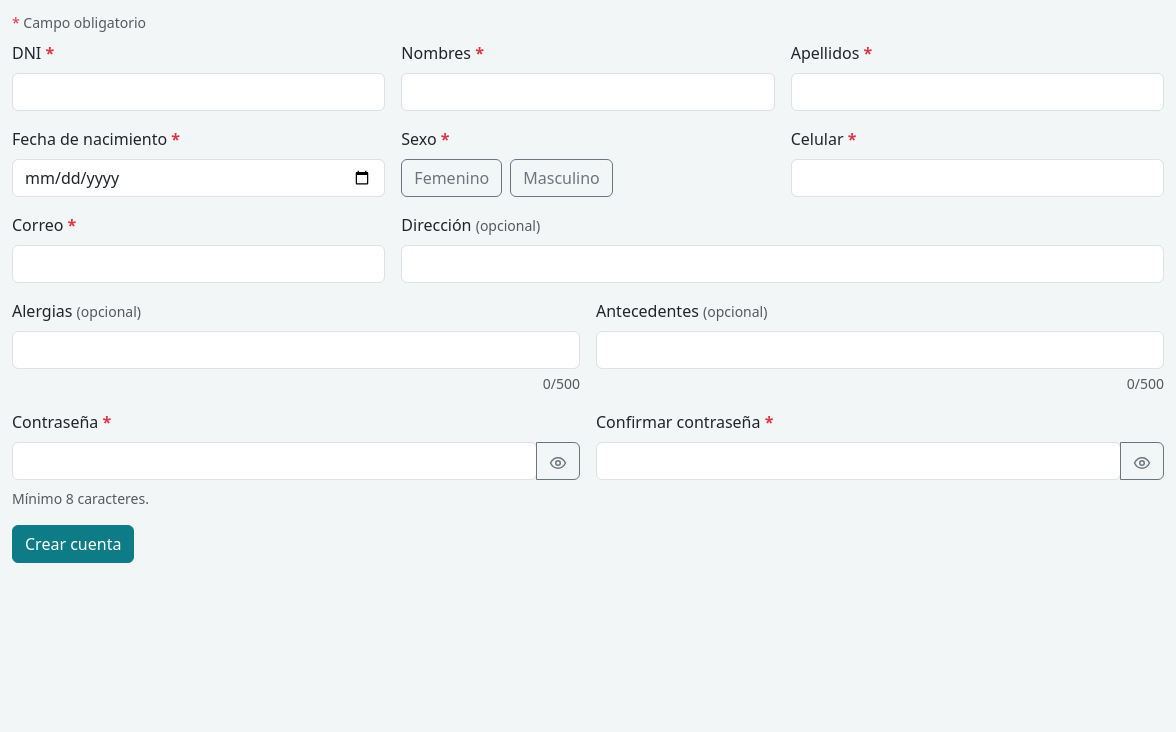
Scenario: Formulario de registro del paciente › web: marca obligatorios y opcionales; nombres sin números ni símbolos; la ayuda de la contraseña dice solo el mínimo
Check: the text "Dirección (opcional)" is shown, box [401, 213, 540, 237]
Type "Ana2 María#" into the field labelled "Nombres" at (588, 92), box [401, 73, 775, 111]
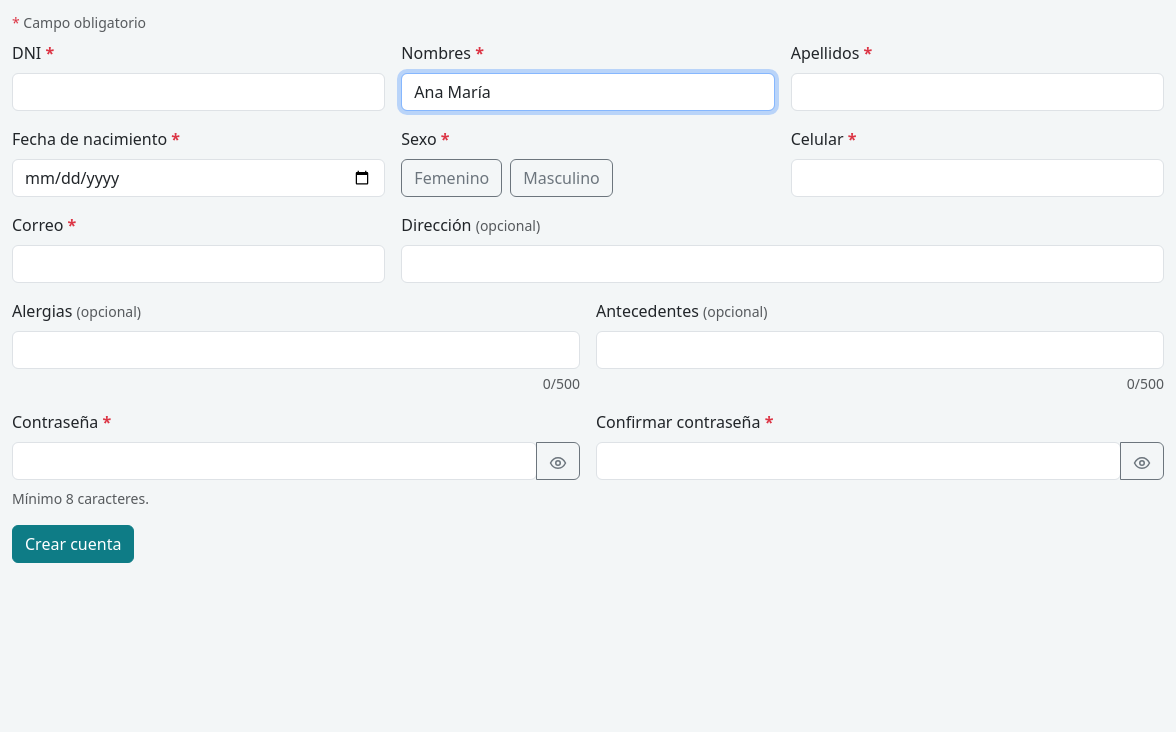
Check: the text "Mínimo 8 caracteres." is shown, box [12, 489, 149, 508]
Check: the field labelled "Nombres" holds "Ana María", box [401, 73, 775, 111]
